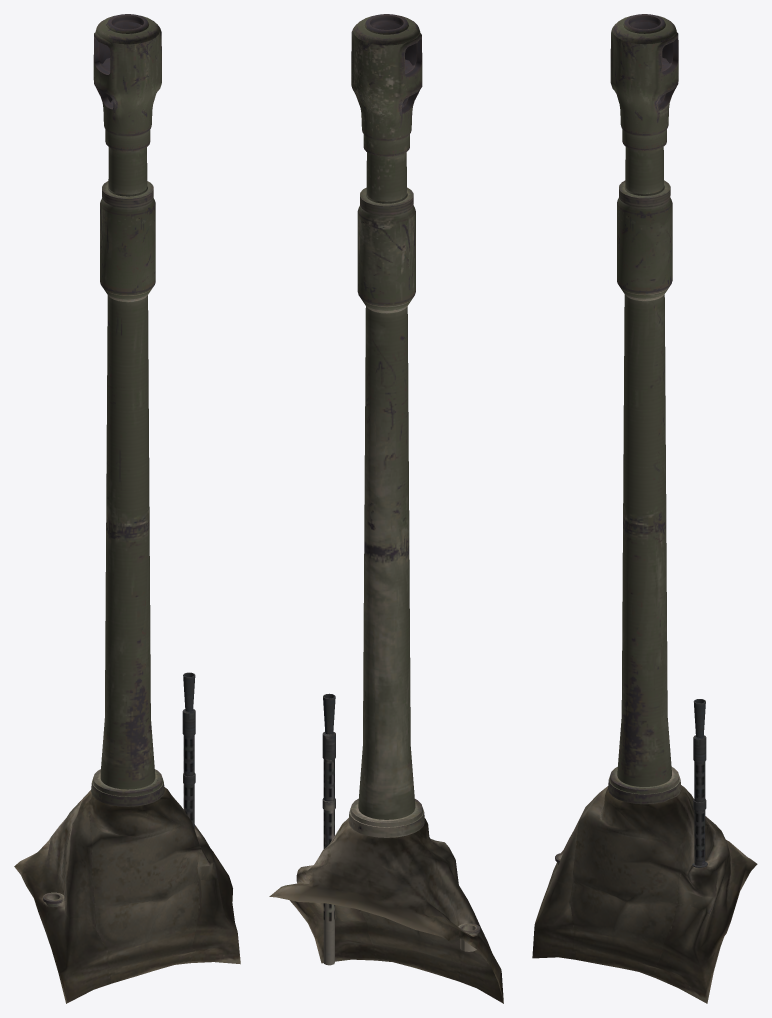
Rendered from Gun_01.glb.
3 views of the same model, side by side, from view 1: azimuth 30°, elevation 25°; view 2: azimuth 150°, elevation 25°; view 3: azimuth 330°, elevation 25° (orthographic). The views are drawn at different scales.
Parts seen in each view (by area): view 1: set_0_group_0; view 2: set_0_group_0; view 3: set_0_group_0.
Boxes of the visible parts, x1,y1,x2,y2 form: set_0_group_0: (14, 14, 240, 1003); set_0_group_0: (269, 14, 503, 1003); set_0_group_0: (532, 14, 757, 1003).
Bounding box in the file's own units: 0.9914 × 4.9 × 0.5439.
1 material, 1 textured.
